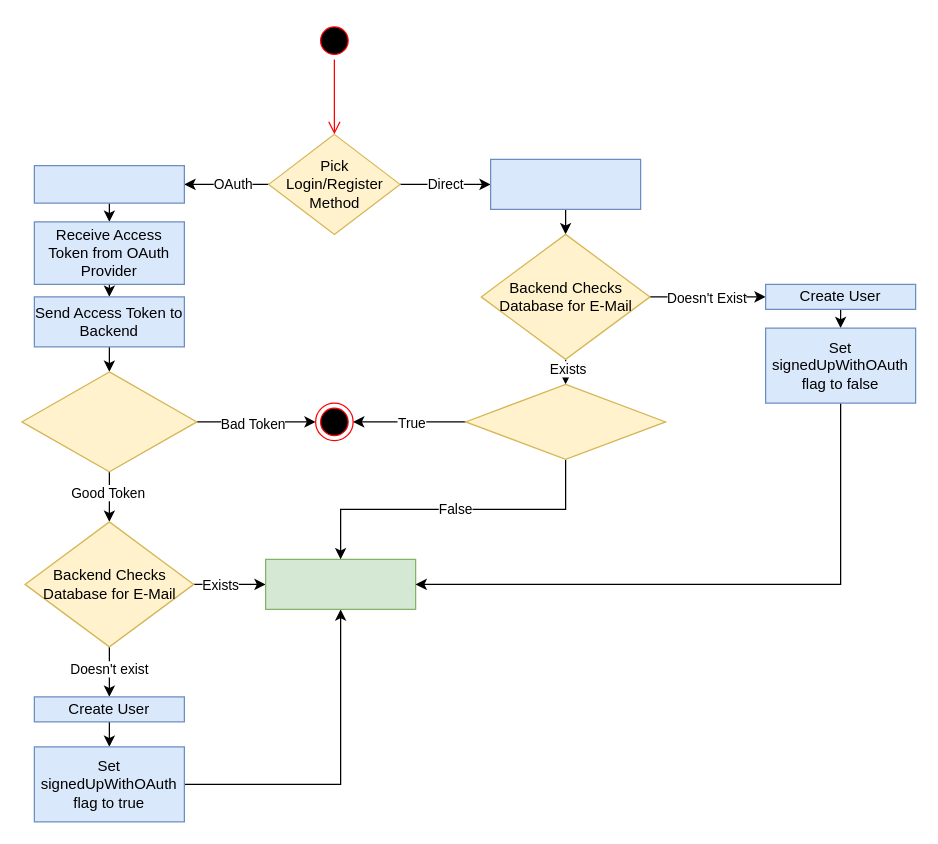
Image size: 938x844. Some labels were removed from this diagram. The shapes that lost their labels are listed below. From the top down, each one's centre as x and y in pixels, then its label:
the point at 108,183: Login with OAuth Provider
the point at 565,183: Send Credentials to Backend
the point at 109,421: Backend Verifies Token
the point at 565,421: signedUpWithOAuth ?
the point at 340,583: Generate JWT Token and send to Frontend
